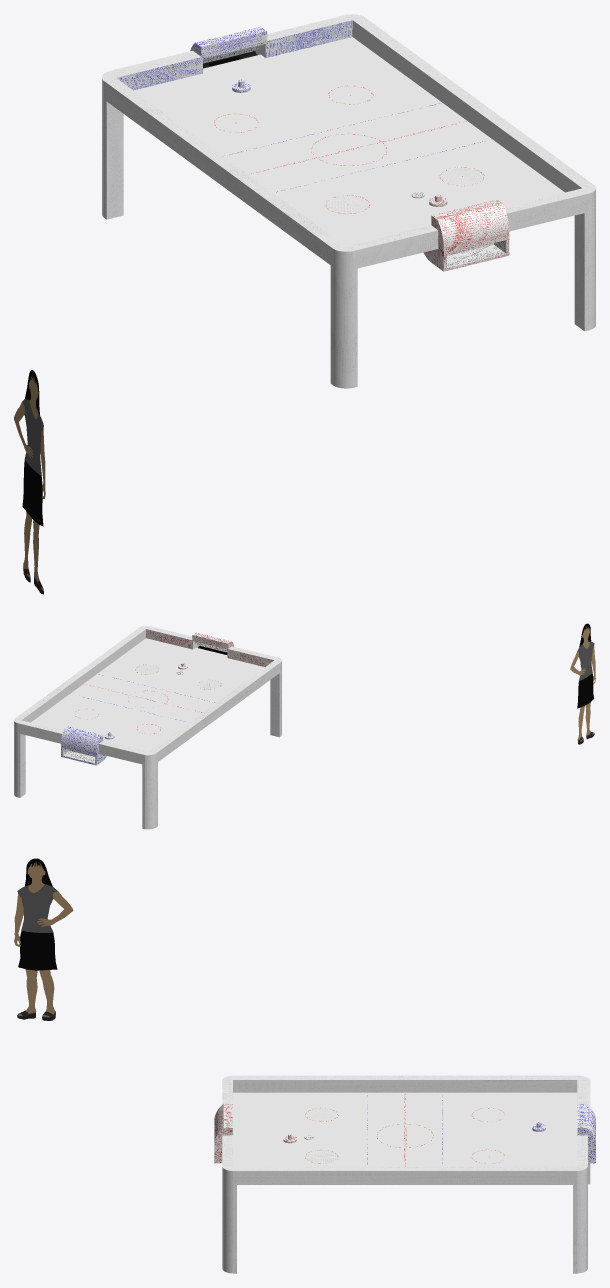
Rendered from first_draft.dae.
3 renders of one model, top to bottom at view 1: azimuth 30°, elevation 25°; view 2: azimuth 150°, elevation 25°; view 3: azimuth 270°, elevation 25°, orthographic. The views are drawn at different scales.
Parts seen in each view (by area): view 1: Air_hockey_table (×7), Sophie (×2); view 2: Air_hockey_table (×4), Sophie (×2); view 3: Air_hockey_table (×4), Sophie (×2).
Boxes of the visible parts, bbox=[...] form: Air_hockey_table (×7): bbox=[102, 14, 595, 388]; Sophie (×2): bbox=[22, 398, 43, 526]; Air_hockey_table (×4): bbox=[14, 626, 281, 829]; Sophie (×2): bbox=[577, 641, 594, 708]; Air_hockey_table (×4): bbox=[214, 1075, 595, 1273]; Sophie (×2): bbox=[17, 884, 58, 970].
Size of the model in its own units: 224 by 217 by 66.64.
